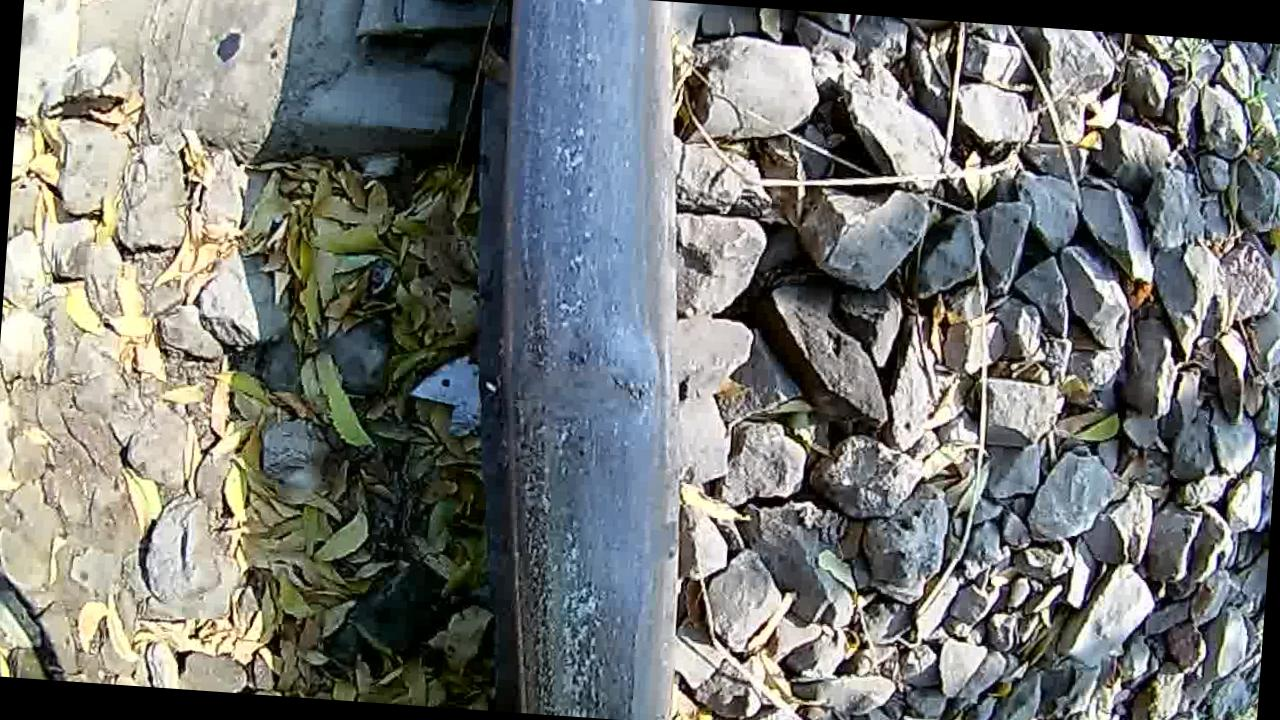bolt_missing: (496, 281, 669, 720)
